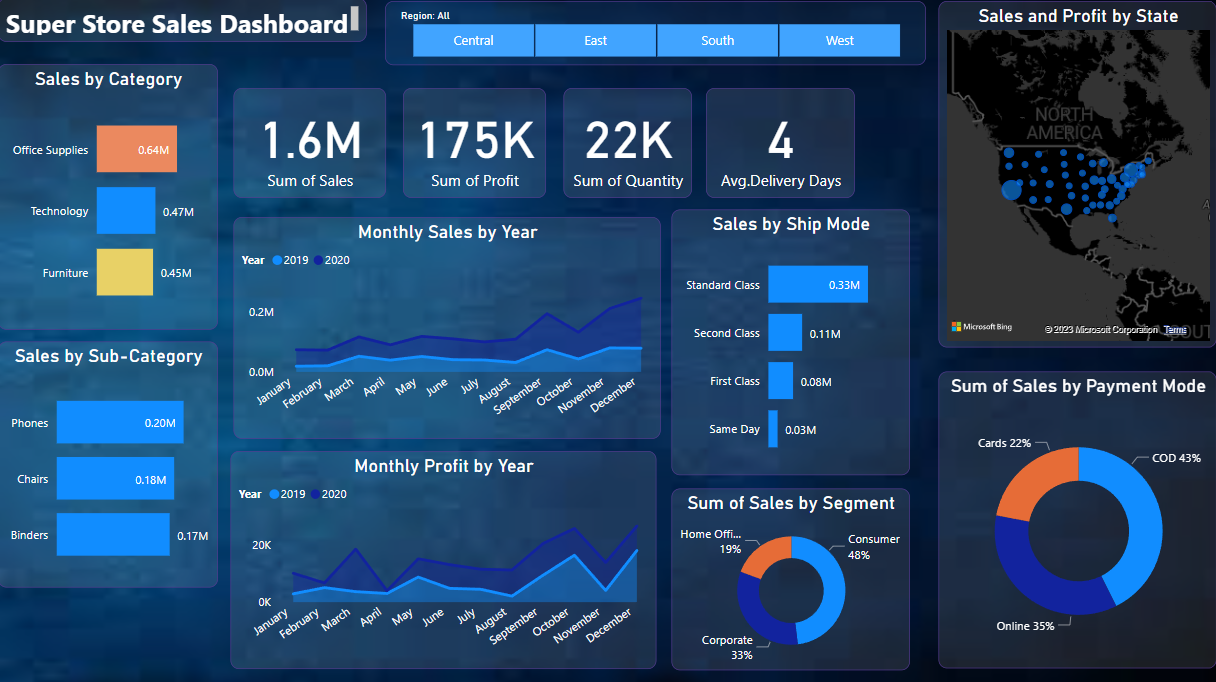

The page's visual inventory and layout, read from the dashboard file:
{"tool":"powerbi","page":{"name":"Dashboard","canvas":[1280,720],"ordinal":0},"visuals":[{"type":"clusteredBarChart","title":"Sales by Sub-Category","fields":{"Category":["SuperStore_Sales_Dataset.Sub-Category"],"Y":["Sum(SuperStore_Sales_Dataset.Sales)"]},"box":[0,359.8,230.9,257.8],"z":0},{"type":"clusteredBarChart","title":"Sales by Category","fields":{"Category":["SuperStore_Sales_Dataset.Category"],"Y":["Sum(SuperStore_Sales_Dataset.Sales)"]},"box":[0,69.3,230.9,279],"z":1000},{"type":"clusteredBarChart","title":"Sales by Ship Mode","fields":{"Category":["SuperStore_Sales_Dataset.Ship Mode"],"Y":["Sum(SuperStore_Sales_Dataset.Sales)"]},"box":[706.1,221.2,250.1,279],"z":2000},{"type":"stackedAreaChart","title":"Monthly Sales by Year","fields":{"Y":["Sum(SuperStore_Sales_Dataset.Sales)"],"Series":["SuperStore_Sales_Dataset.Order Date.Variation.Date Hierarchy.Year"],"Category":["SuperStore_Sales_Dataset.Order Date.Variation.Date Hierarchy.Month"]},"box":[246.3,228.9,448.3,232.8],"z":3000},{"type":"stackedAreaChart","title":"Monthly Profit by Year","fields":{"Series":["SuperStore_Sales_Dataset.Order Date.Variation.Date Hierarchy.Year"],"Category":["SuperStore_Sales_Dataset.Order Date.Variation.Date Hierarchy.Month"],"Y":["Sum(SuperStore_Sales_Dataset.Profit)"]},"box":[244.3,475.2,446.3,228.9],"z":4000},{"type":"map","title":"Sales and Profit by State","fields":{"Category":["SuperStore_Sales_Dataset.State"],"Size":["Sum(SuperStore_Sales_Dataset.Sales)"]},"box":[986.9,3.8,292.4,363.6],"z":5000},{"type":"donutChart","fields":{"Category":["SuperStore_Sales_Dataset.Payment Mode"],"Y":["Sum(SuperStore_Sales_Dataset.Sales)"]},"box":[986.9,392.5,292.4,311.7],"z":6000},{"type":"donutChart","fields":{"Category":["SuperStore_Sales_Dataset.Segment"],"Y":["Sum(SuperStore_Sales_Dataset.Sales)"]},"box":[706.1,513.7,250.1,190.5],"z":7000},{"type":"slicer","fields":{"Values":["SuperStore_Sales_Dataset.Region"]},"box":[405.9,3.8,567.5,67.3],"z":8000},{"type":"textbox","box":[0,0,386.7,46.2],"z":9000},{"type":"card","fields":{"Values":["Sum(SuperStore_Sales_Dataset.Sales)"]},"box":[246.3,94.3,159.7,115.4],"z":10000},{"type":"card","fields":{"Values":["Sum(SuperStore_Sales_Dataset.Profit)"]},"box":[425.2,94.3,150.1,115.4],"z":11000},{"type":"card","fields":{"Values":["Sum(SuperStore_Sales_Dataset.Quantity)"]},"box":[592.5,94.3,134.7,115.4],"z":12000},{"type":"card","fields":{"Values":["Avg(SuperStore_Sales_Dataset.Avg.Delivery Days)"]},"box":[742.6,94.3,155.8,115.4],"z":13000}]}

Visuals, with their boxes in screenshot pixels (x1, y1, x2, y2), scaled from the page's 1280x720 canvas onto the 1216x682 screenshot:
"Sales by Sub-Category" clusteredBarChart: {"left": 0, "top": 341, "right": 219, "bottom": 585}
"Sales by Category" clusteredBarChart: {"left": 0, "top": 66, "right": 219, "bottom": 330}
"Sales by Ship Mode" clusteredBarChart: {"left": 671, "top": 210, "right": 908, "bottom": 474}
"Monthly Sales by Year" stackedAreaChart: {"left": 234, "top": 217, "right": 660, "bottom": 437}
"Monthly Profit by Year" stackedAreaChart: {"left": 232, "top": 450, "right": 656, "bottom": 667}
"Sales and Profit by State" map: {"left": 938, "top": 4, "right": 1215, "bottom": 348}
donutChart - SuperStore_Sales_Dataset.Payment Mode x Sum(SuperStore_Sales_Dataset.Sales): {"left": 938, "top": 372, "right": 1215, "bottom": 667}
donutChart - SuperStore_Sales_Dataset.Segment x Sum(SuperStore_Sales_Dataset.Sales): {"left": 671, "top": 487, "right": 908, "bottom": 667}
slicer - SuperStore_Sales_Dataset.Region: {"left": 386, "top": 4, "right": 925, "bottom": 67}
textbox: {"left": 0, "top": 0, "right": 367, "bottom": 44}
card - Sum(SuperStore_Sales_Dataset.Sales): {"left": 234, "top": 89, "right": 386, "bottom": 199}
card - Sum(SuperStore_Sales_Dataset.Profit): {"left": 404, "top": 89, "right": 547, "bottom": 199}
card - Sum(SuperStore_Sales_Dataset.Quantity): {"left": 563, "top": 89, "right": 691, "bottom": 199}
card - Avg(SuperStore_Sales_Dataset.Avg.Delivery Days): {"left": 705, "top": 89, "right": 853, "bottom": 199}
